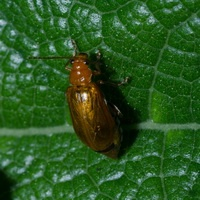insect: (28, 40, 122, 157)
